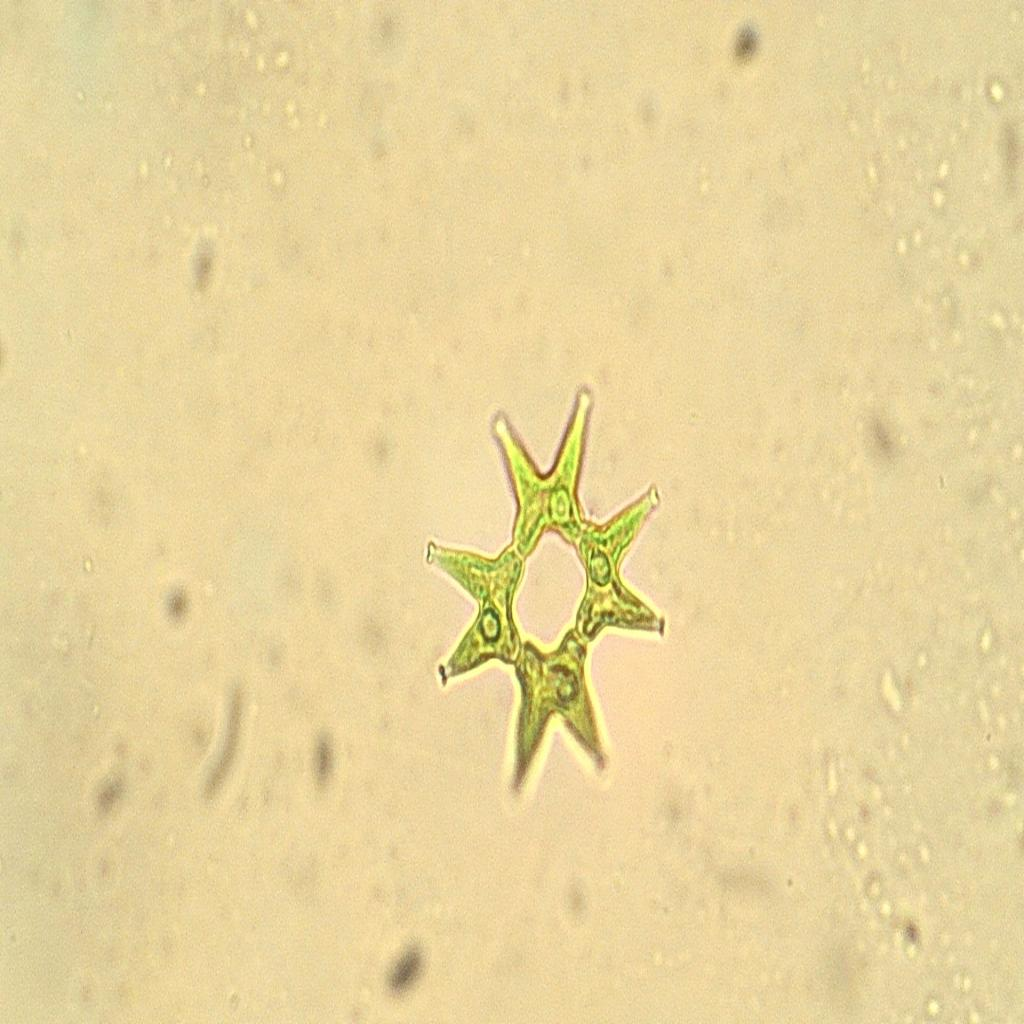Pediastrum_75O: (410, 370, 678, 826)
